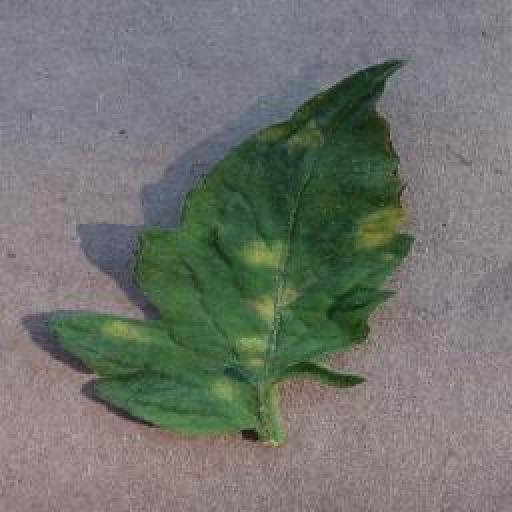disease_tomato: (48, 54, 414, 430)
